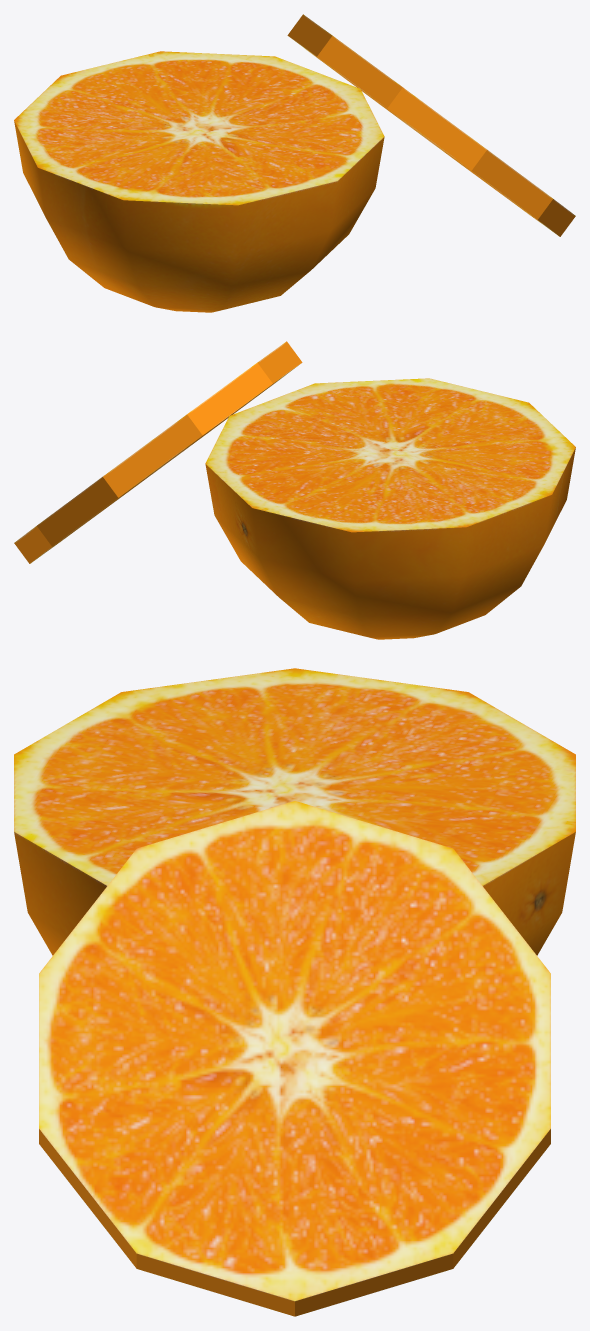
File: orange.glb
3 views of the same model, one above another, from view 1: azimuth 30°, elevation 25°; view 2: azimuth 150°, elevation 25°; view 3: azimuth 270°, elevation 25° (orthographic). The views are drawn at different scales.
Visible parts, largest first — view 1: pSphere2; view 2: pSphere2; view 3: pSphere2.
Part boxes in pixels (box(x1,y1,x2,y2)): pSphere2: box(14, 14, 575, 312); pSphere2: box(14, 341, 575, 639); pSphere2: box(14, 668, 575, 1316).
Size of the model in its own units: 0.1461 by 0.0629 by 0.0882.
1 material, 1 textured.
